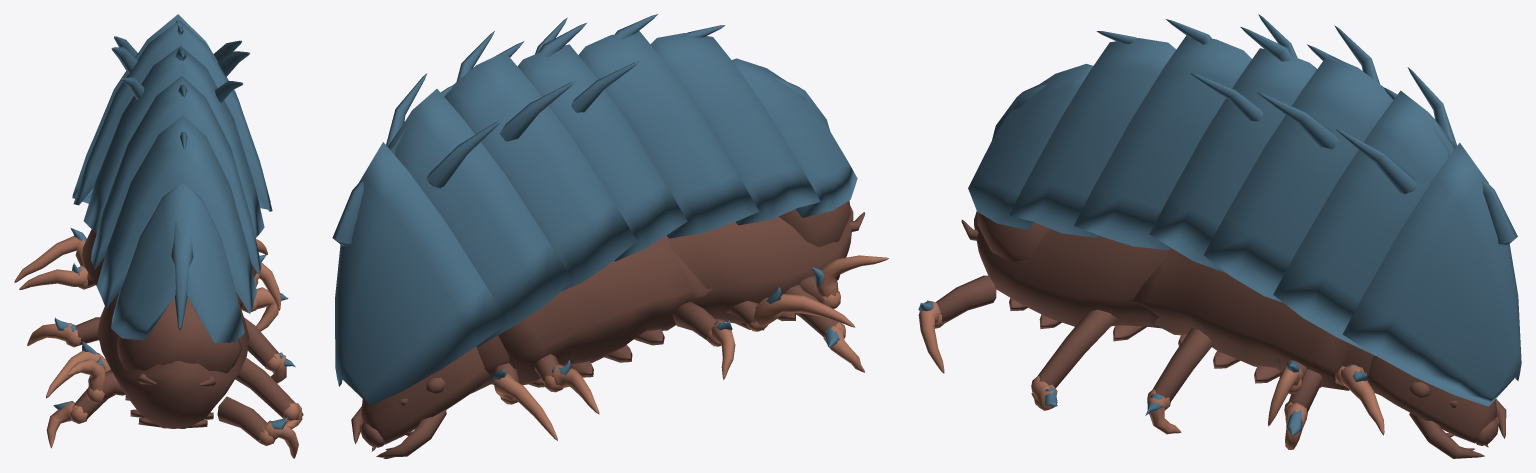
Rendered from big-spitter-corpse-3.glb.
3 renders of one model, left to right at view 1: azimuth 30°, elevation 25°; view 2: azimuth 150°, elevation 25°; view 3: azimuth 270°, elevation 25°, orthographic. The views are drawn at different scales.
Visible parts, largest first — view 1: body; view 2: body; view 3: body.
Part boxes in pixels (bbox=[...]): body: bbox=[14, 14, 303, 458]; body: bbox=[332, 14, 888, 458]; body: bbox=[918, 14, 1521, 458].
Bounding box in the file's own units: 2.42 × 2.23 × 3.21.
